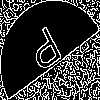P: (25, 25, 68, 81)
